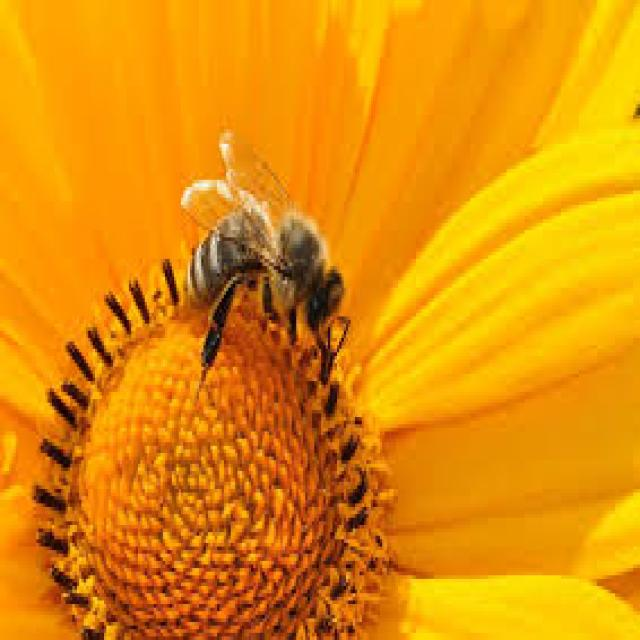Bees: (180, 123, 351, 393)
